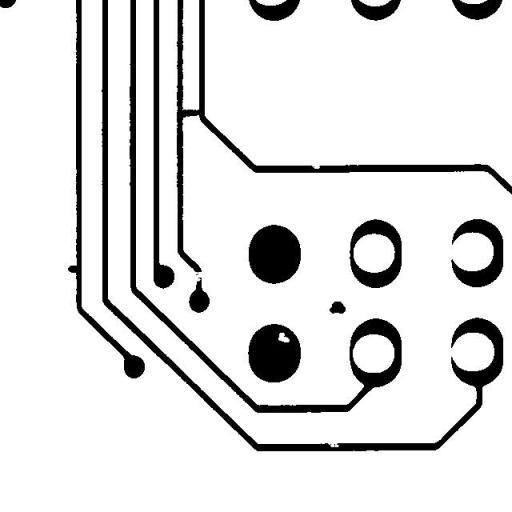copper: (322, 294, 352, 320)
mousebite: (320, 432, 346, 454), (304, 156, 328, 176)
open: (182, 263, 211, 290)
pin-hole: (270, 324, 297, 350)
short: (172, 102, 209, 124)
spur: (60, 258, 88, 280)
